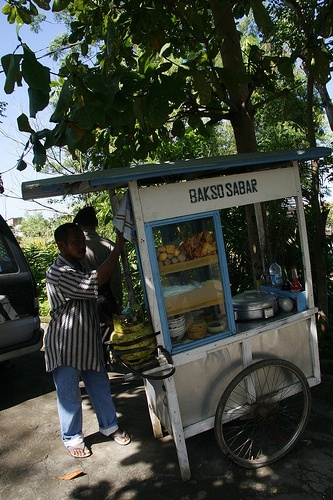gerobak: (22, 147, 329, 478)
